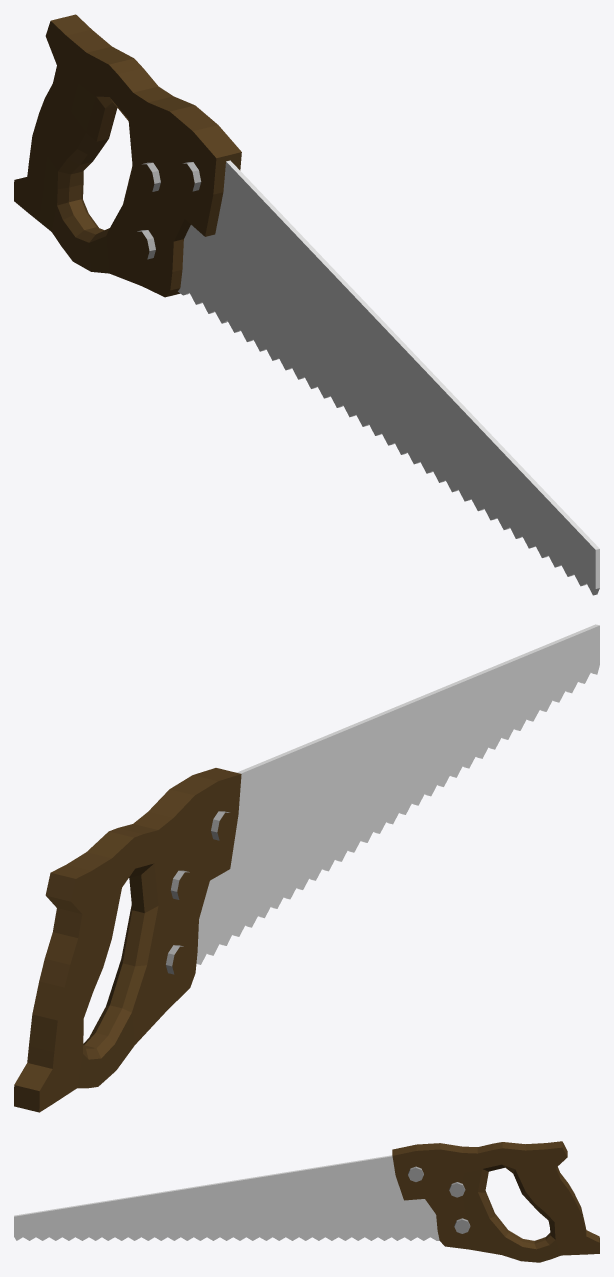
File: saw_big.glb
The picture shows the model from 3 angles, top to bottom: view 1: azimuth 30°, elevation 25°; view 2: azimuth 150°, elevation 25°; view 3: azimuth 270°, elevation 25°; orthographic projection. The views are drawn at different scales.
Parts seen in each view (by area): view 1: saw_big; view 2: saw_big; view 3: saw_big.
Part boxes in pixels (x1=…): saw_big: x1=14, y1=14, x2=599, y2=595; saw_big: x1=14, y1=624, x2=599, y2=1112; saw_big: x1=14, y1=1141, x2=599, y2=1262.
Size of the model in its own units: 0.0226 by 0.1285 by 0.5928.
